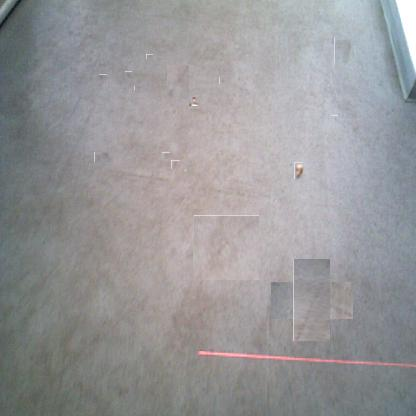dirty: (294, 162, 303, 179), (191, 99, 200, 108)
mark: (193, 215, 259, 280), (282, 271, 342, 330), (167, 65, 189, 99), (334, 38, 351, 64), (94, 152, 109, 162), (171, 160, 180, 169), (125, 71, 132, 79), (219, 76, 226, 84), (332, 115, 338, 124), (170, 107, 176, 116), (100, 74, 107, 81), (163, 152, 170, 158), (136, 85, 142, 92), (146, 53, 152, 60), (156, 56, 162, 62)
